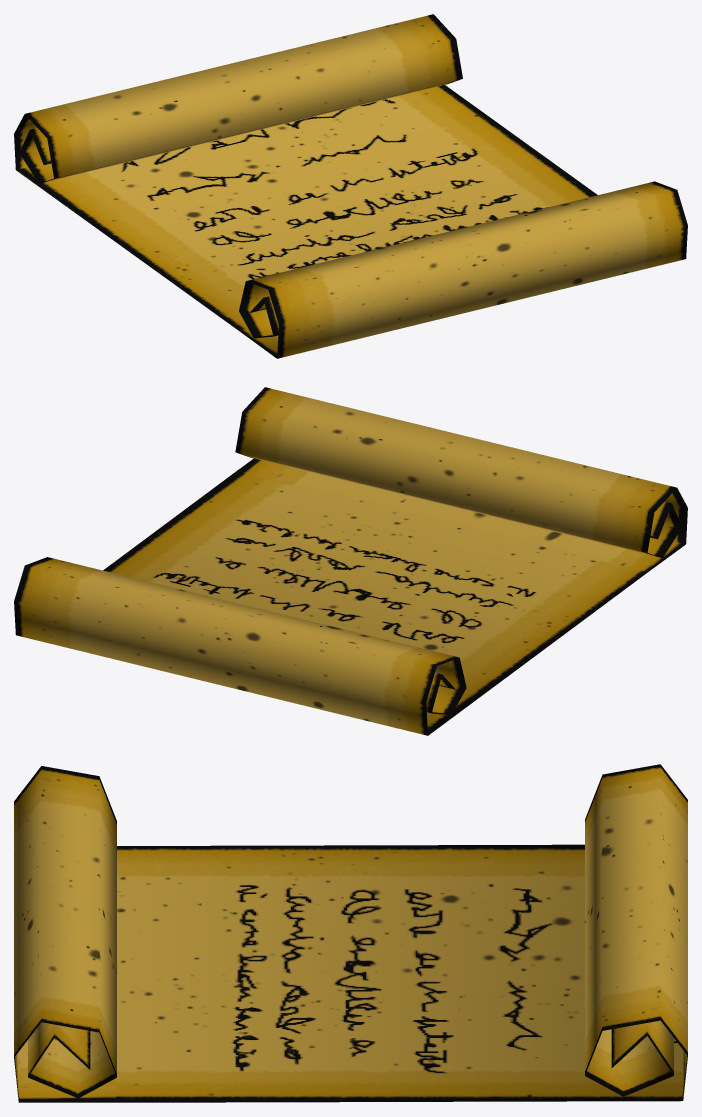
The model's file is paper5.obj.
3 renders of one model, top to bottom at view 1: azimuth 30°, elevation 25°; view 2: azimuth 150°, elevation 25°; view 3: azimuth 270°, elevation 25°, orthographic. The views are drawn at different scales.
Parts seen in each view (by area): view 1: paper.004; view 2: paper.004; view 3: paper.004.
Part boxes in pixels (box(x1,y1,x2,y2)): paper.004: box(14, 14, 687, 358); paper.004: box(14, 387, 687, 735); paper.004: box(14, 764, 687, 1102).
Bounding box in the file's own units: 1.38 × 0.2013 × 1.53.
